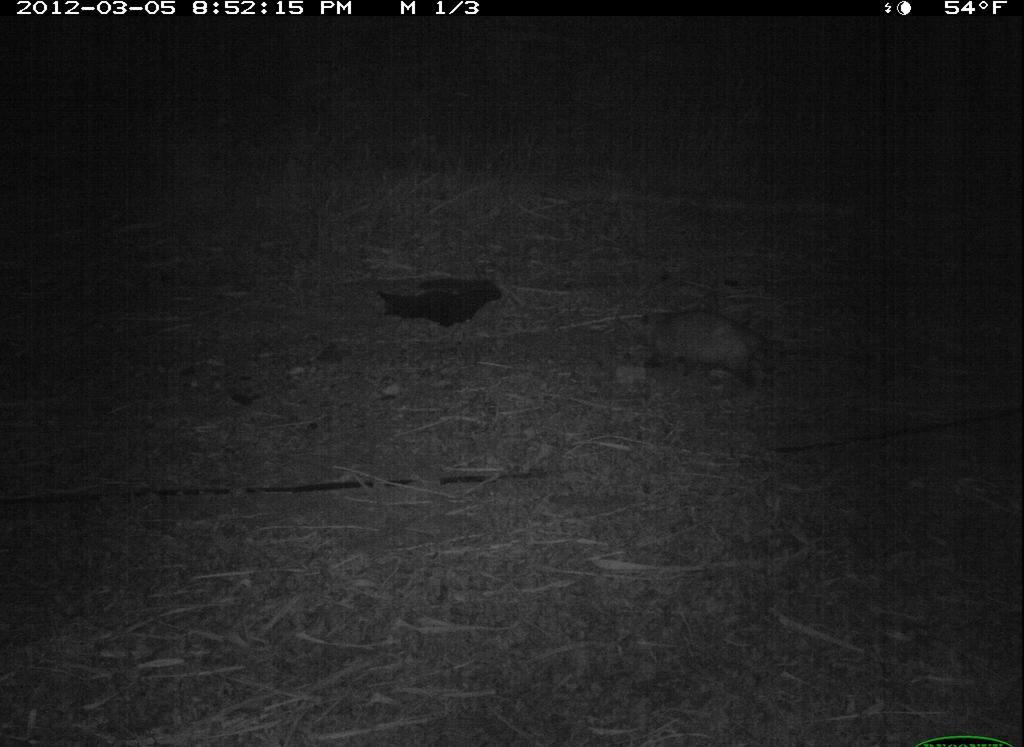opossum: (628, 297, 777, 393)
